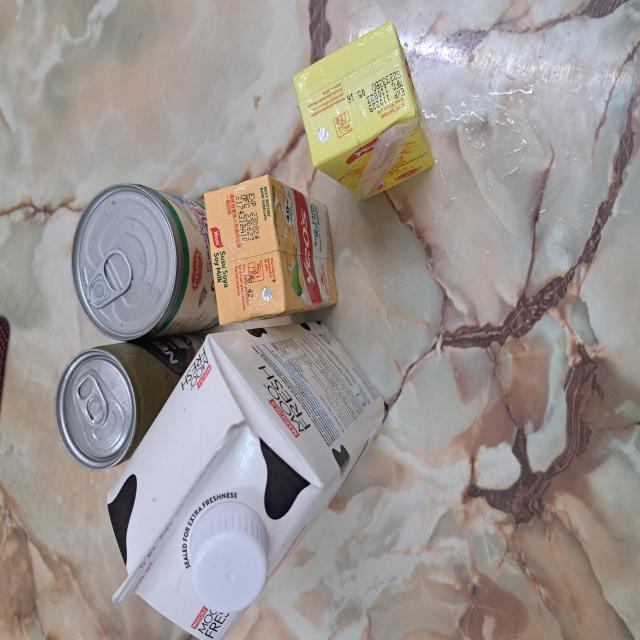can: (73, 182, 219, 337), (59, 340, 192, 466)
drink carton: (106, 318, 387, 640), (296, 21, 436, 200), (206, 174, 338, 322)
plastic bottle cap: (183, 493, 271, 618)
pop tab: (85, 245, 134, 312), (74, 372, 110, 426)
